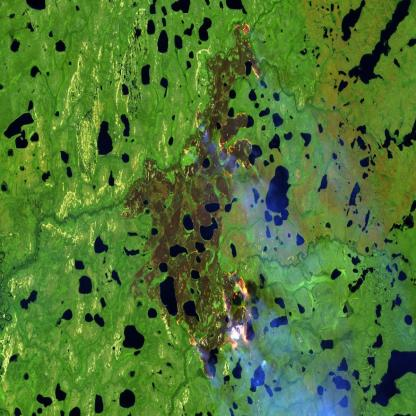fire: (178, 14, 267, 180), (183, 267, 254, 385)
